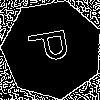P: (27, 24, 79, 66)
